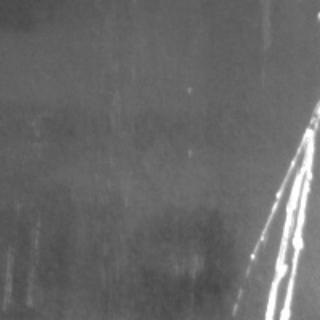scratches: (250, 98, 316, 316)
